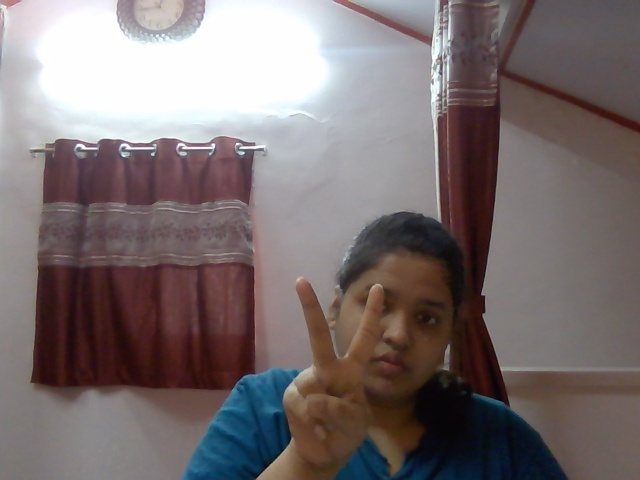v: (268, 264, 392, 467)
